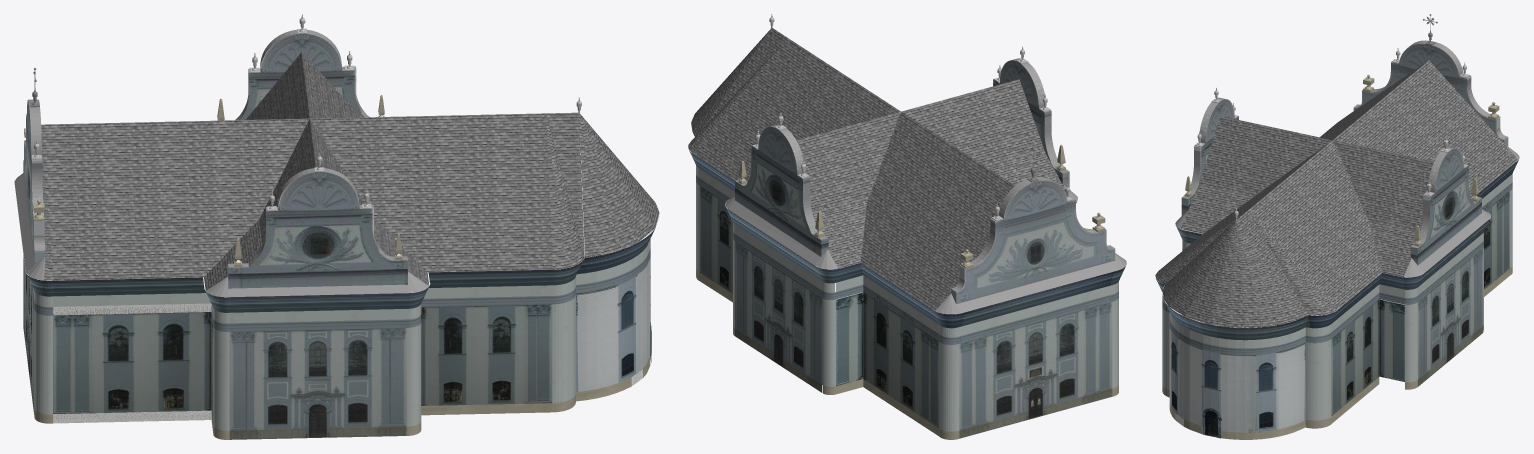
The model's file is evanjelicky.glb.
3 renders of one model, left to right at view 1: azimuth 30°, elevation 25°; view 2: azimuth 150°, elevation 25°; view 3: azimuth 270°, elevation 25°, orthographic. The views are drawn at different scales.
Visible parts, largest first — view 1: material_6, EKpriečelie-bočné, EKpriečelie-celé-bočné, EK-bok-lode, material_3_1, EK-bok-sanktuária, rímsa1, bočná_stena_sanktuária, Color_006, EK-sokel-spodný_2, pod-rímsou-2, material (+3 smaller); view 2: material_6, EK-priečeli-web, material_3_1, EKpriečelie-bočné, EKpriečelie-celé-bočné, EK-bok-lode, Color_006, rímsa1, pod-rímsou-2, EK-bok-sanktuária, EK-sokel-spodný_2, EK-bok-priečnej-lode (+1 smaller); view 3: material_6, bočná_stena_sanktuária, material_3_1, EKpriečelie-bočné, EKpriečelie-celé-bočné, rímsa1, EK-bok-sanktuária, Color_006, pod-rímsou-2, EK-sokel-spodný_2, EK-priečeli-web, EK-bok-lode (+3 smaller).
Part boxes in pixels (bbox=[...]): material_6: bbox=[41, 52, 659, 290]; EKpriečelie-bočné: bbox=[229, 328, 407, 439]; EKpriečelie-celé-bočné: bbox=[228, 30, 407, 288]; EK-bok-lode: bbox=[53, 312, 211, 413]; material_3_1: bbox=[23, 222, 650, 430]; EK-bok-sanktuária: bbox=[421, 304, 552, 405]; rímsa1: bbox=[27, 229, 654, 312]; bočná_stena_sanktuária: bbox=[576, 257, 650, 391]; Color_006: bbox=[14, 29, 428, 297]; EK-sokel-spodný_2: bbox=[23, 95, 650, 439]; pod-rímsou-2: bbox=[31, 248, 650, 331]; material: bbox=[15, 115, 659, 423]; material_6: bbox=[688, 28, 1069, 310]; EK-priečeli-web: bbox=[951, 179, 1115, 438]; material_3_1: bbox=[696, 165, 1118, 431]; EKpriečelie-bočné: bbox=[735, 241, 822, 392]; EKpriečelie-celé-bočné: bbox=[735, 58, 1069, 256]; EK-bok-lode: bbox=[863, 287, 939, 427]; Color_006: bbox=[725, 58, 1126, 314]; rímsa1: bbox=[689, 133, 1125, 328]; pod-rímsou-2: bbox=[696, 174, 1118, 344]; EK-bok-sanktuária: bbox=[699, 186, 732, 293]; EK-sokel-spodný_2: bbox=[696, 144, 1118, 439]; EK-bok-priečnej-lode: bbox=[836, 292, 863, 385]; material_6: bbox=[1155, 60, 1518, 327]; bočná_stena_sanktuária: bbox=[1169, 326, 1305, 432]; material_3_1: bbox=[1162, 116, 1512, 420]; EKpriečelie-bočné: bbox=[1418, 248, 1482, 386]; EKpriečelie-celé-bočné: bbox=[1181, 98, 1481, 265]; rímsa1: bbox=[1156, 160, 1518, 340]; EK-bok-sanktuária: bbox=[1331, 299, 1379, 415]; Color_006: bbox=[1175, 40, 1519, 277]; pod-rímsou-2: bbox=[1162, 182, 1512, 354]; EK-sokel-spodný_2: bbox=[1162, 77, 1512, 439]; EK-priečeli-web: bbox=[1353, 43, 1508, 146]; EK-bok-lode: bbox=[1483, 185, 1509, 289].
Size of the model in its own units: 51.99 by 27.78 by 38.14.
23 materials, 18 textured.
